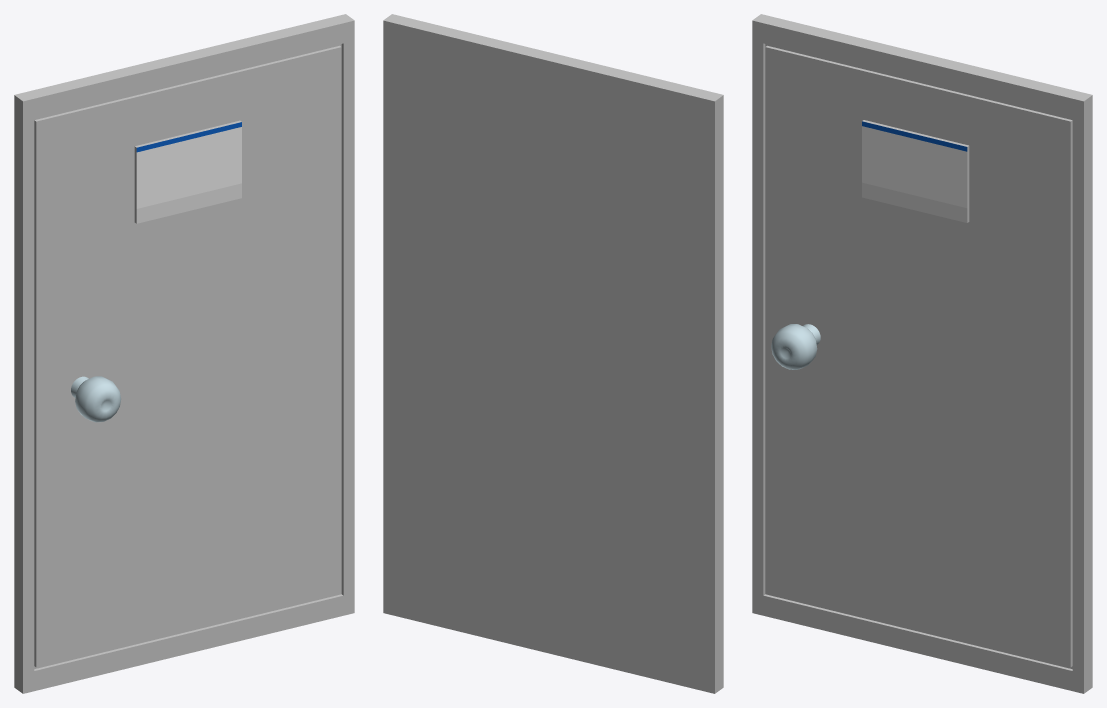
The model's file is EPS.fbx.
3 views of the same model, side by side, from view 1: azimuth 30°, elevation 25°; view 2: azimuth 150°, elevation 25°; view 3: azimuth 330°, elevation 25° (orthographic).
Visible parts, largest first — view 1: Cylinder; view 2: Cylinder; view 3: Cylinder.
Boxes of the visible parts, left/top/right/bottom form: Cylinder: left=14, top=14, right=354, bottom=693; Cylinder: left=383, top=14, right=723, bottom=693; Cylinder: left=752, top=14, right=1092, bottom=693.
Bounding box in the file's own units: 324 × 553 × 57.79.
1 material, 1 textured.
